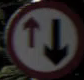Two way: (17, 9, 73, 68)
